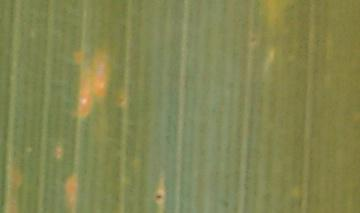tarspot: (155, 193, 162, 202)
